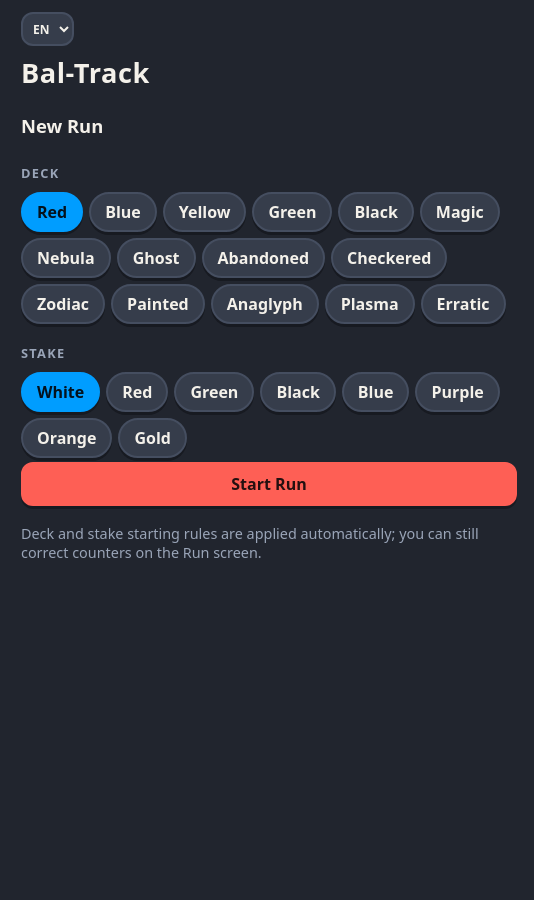
starts a new run from the setup screen
The image size is (534, 900).
Click the button "Yellow" at (205, 212), box [163,192,246,232]
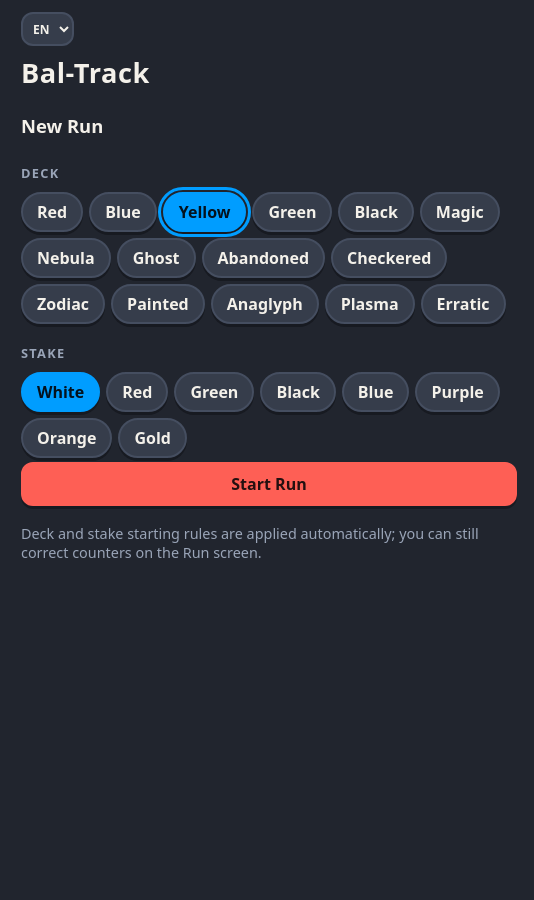
Click the button "White" at (61, 392), box [21,372,100,412]
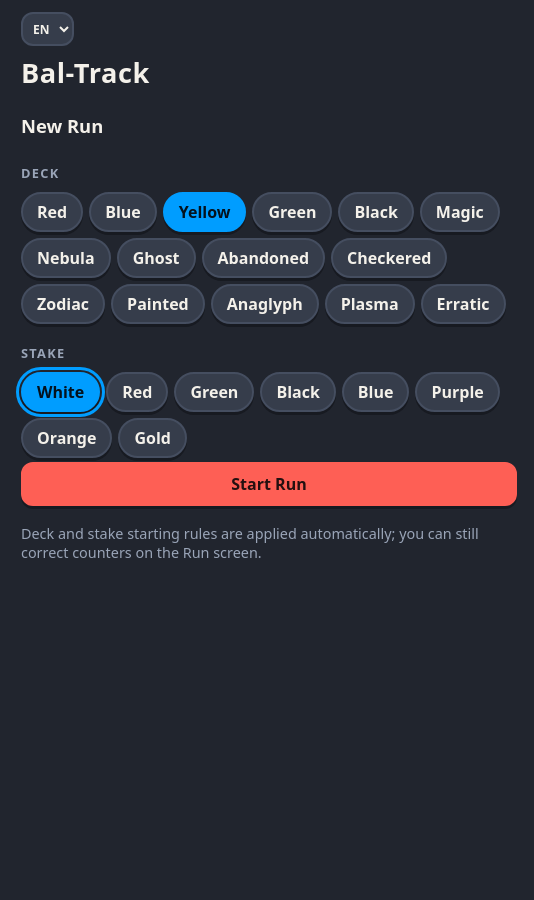
Click the button "Start Run" at (269, 484), box [21,462,517,506]
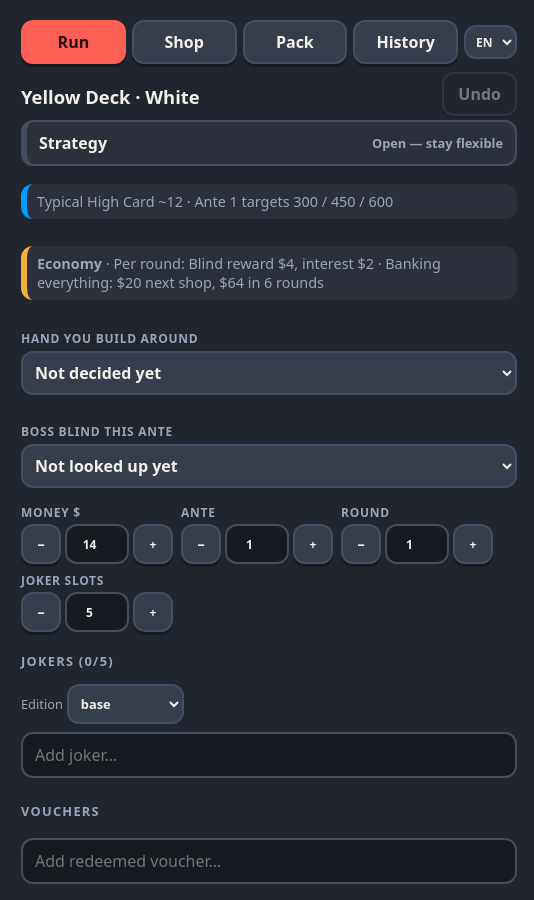
Check: the text "Ante" is shown, box [181,504,216,521]
Check: the number field showing "14" is shown, box [65,524,129,564]
